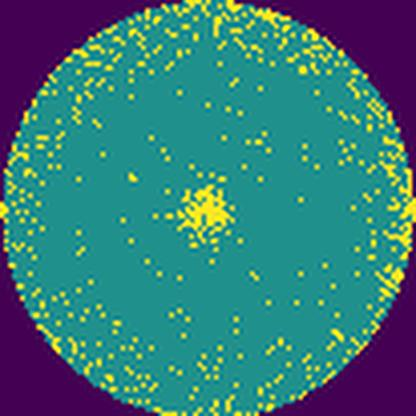Center: (175, 185, 238, 245)
